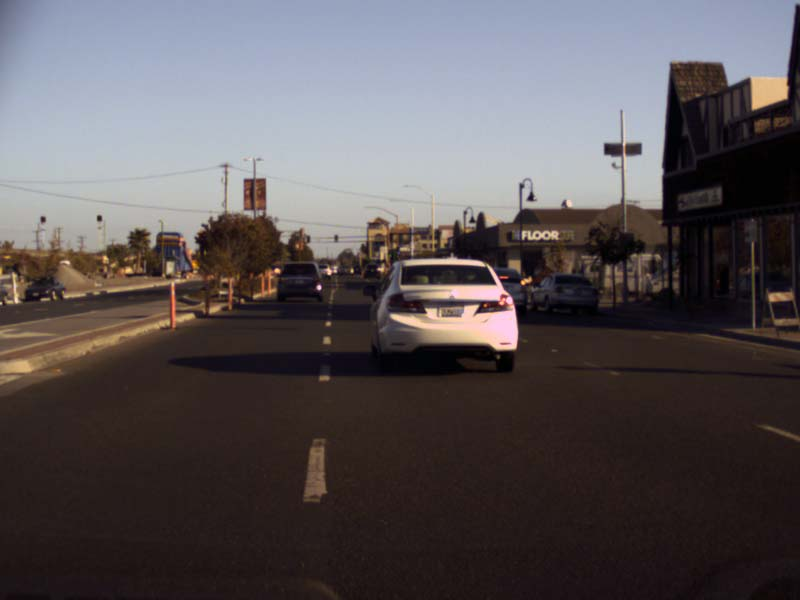Green: (387, 250, 395, 261), (334, 233, 339, 243)
